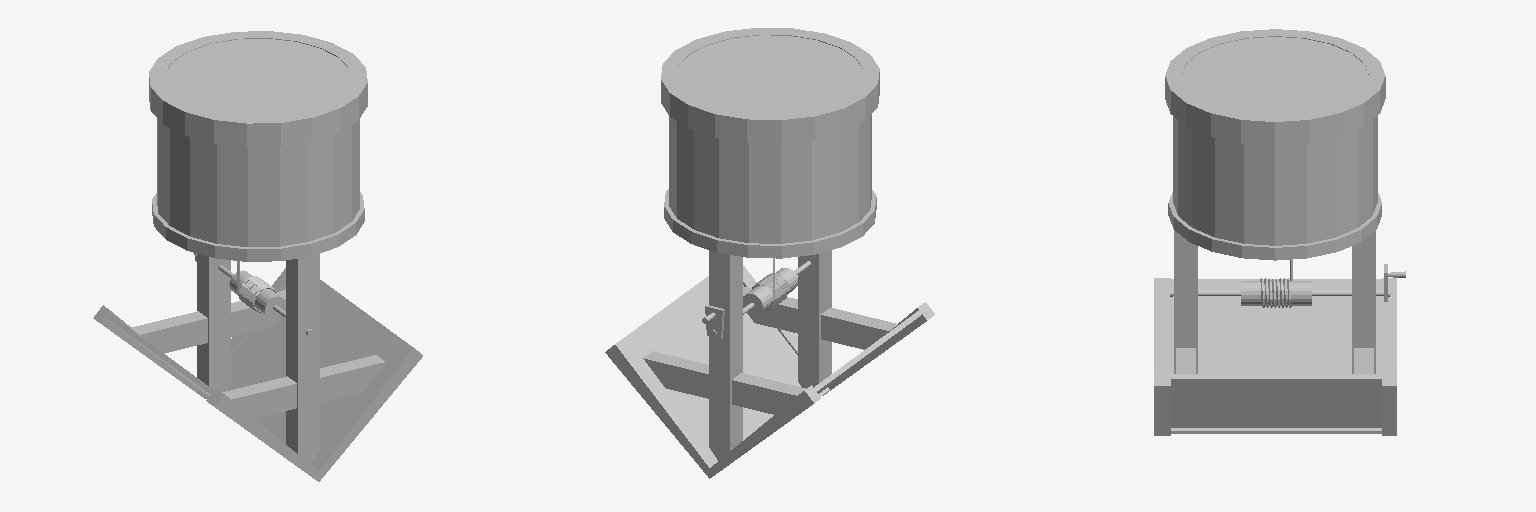
File: well.obj
3 renders of one model, left to right at view 1: azimuth 30°, elevation 25°; view 2: azimuth 150°, elevation 25°; view 3: azimuth 270°, elevation 25°, orthographic.
Visible parts, largest first — view 1: well; view 2: well; view 3: well.
Boxes of the visible parts, x1,y1,x2,y2 form: well: [93, 31, 422, 481]; well: [605, 28, 934, 478]; well: [1154, 29, 1405, 435].
Size of the model in its own units: 2.32 by 3.82 by 2.42.